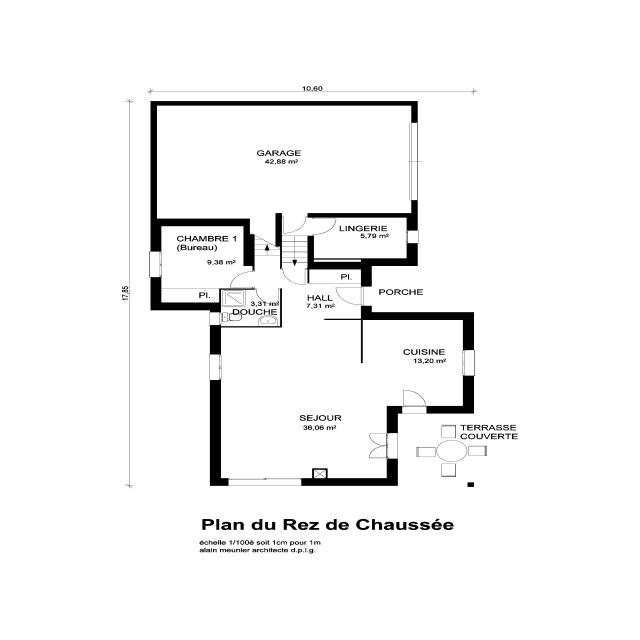door: (396, 386, 431, 413), (364, 428, 393, 460), (333, 284, 371, 308), (280, 262, 309, 286), (306, 216, 339, 237), (280, 213, 310, 235), (228, 269, 258, 288), (255, 287, 282, 305)
window: (226, 476, 302, 489), (146, 249, 166, 281), (460, 346, 478, 381), (383, 430, 402, 461), (206, 352, 224, 384), (404, 228, 421, 246)
zone: (154, 104, 415, 221), (221, 317, 391, 477), (392, 314, 475, 415), (157, 223, 250, 302), (313, 216, 409, 260)
